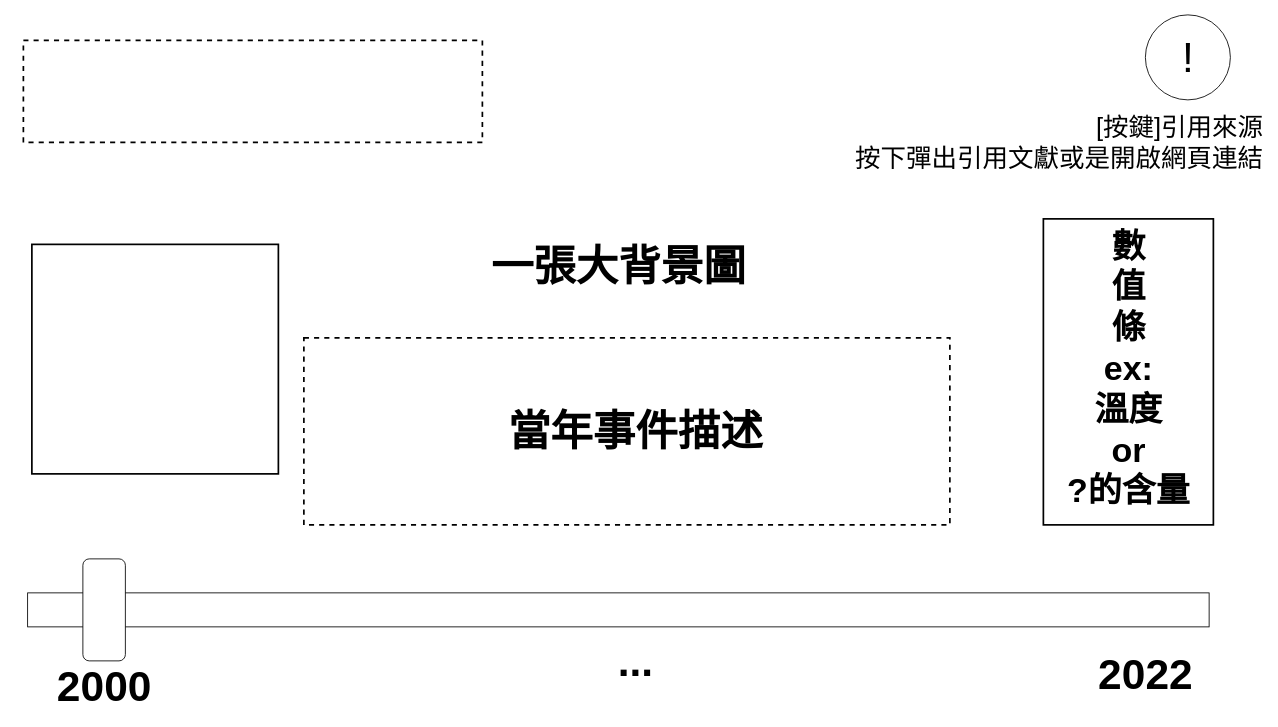
Some shapes in this 1278 by 727 pixel diagram are drawn without their labels. The box of each missing label's shape, as (x1, y1, x2, y2) in pixels:
??示意圖 (看有啥資料能放): (31, 243, 279, 474)
當年事件名稱: (22, 39, 483, 143)
